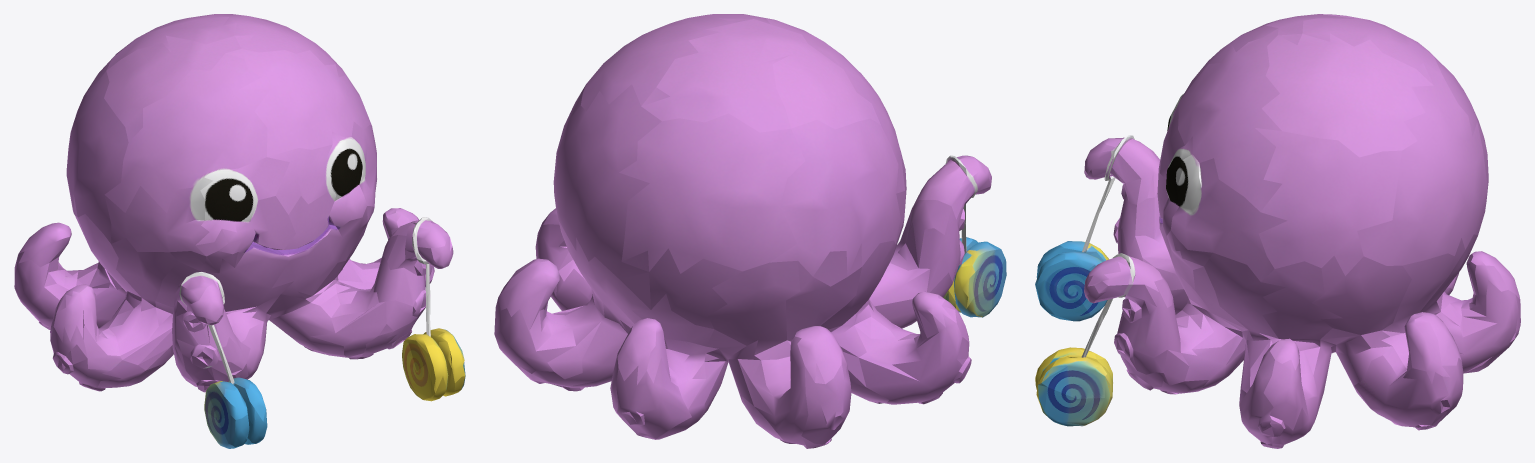
3 views of the same model, side by side, from view 1: azimuth 30°, elevation 25°; view 2: azimuth 150°, elevation 25°; view 3: azimuth 270°, elevation 25° (orthographic). The views are drawn at different scales.
Size of the model in its own units: 1.87 by 1.48 by 1.9.
Materials: 1 (1 with a texture image).
